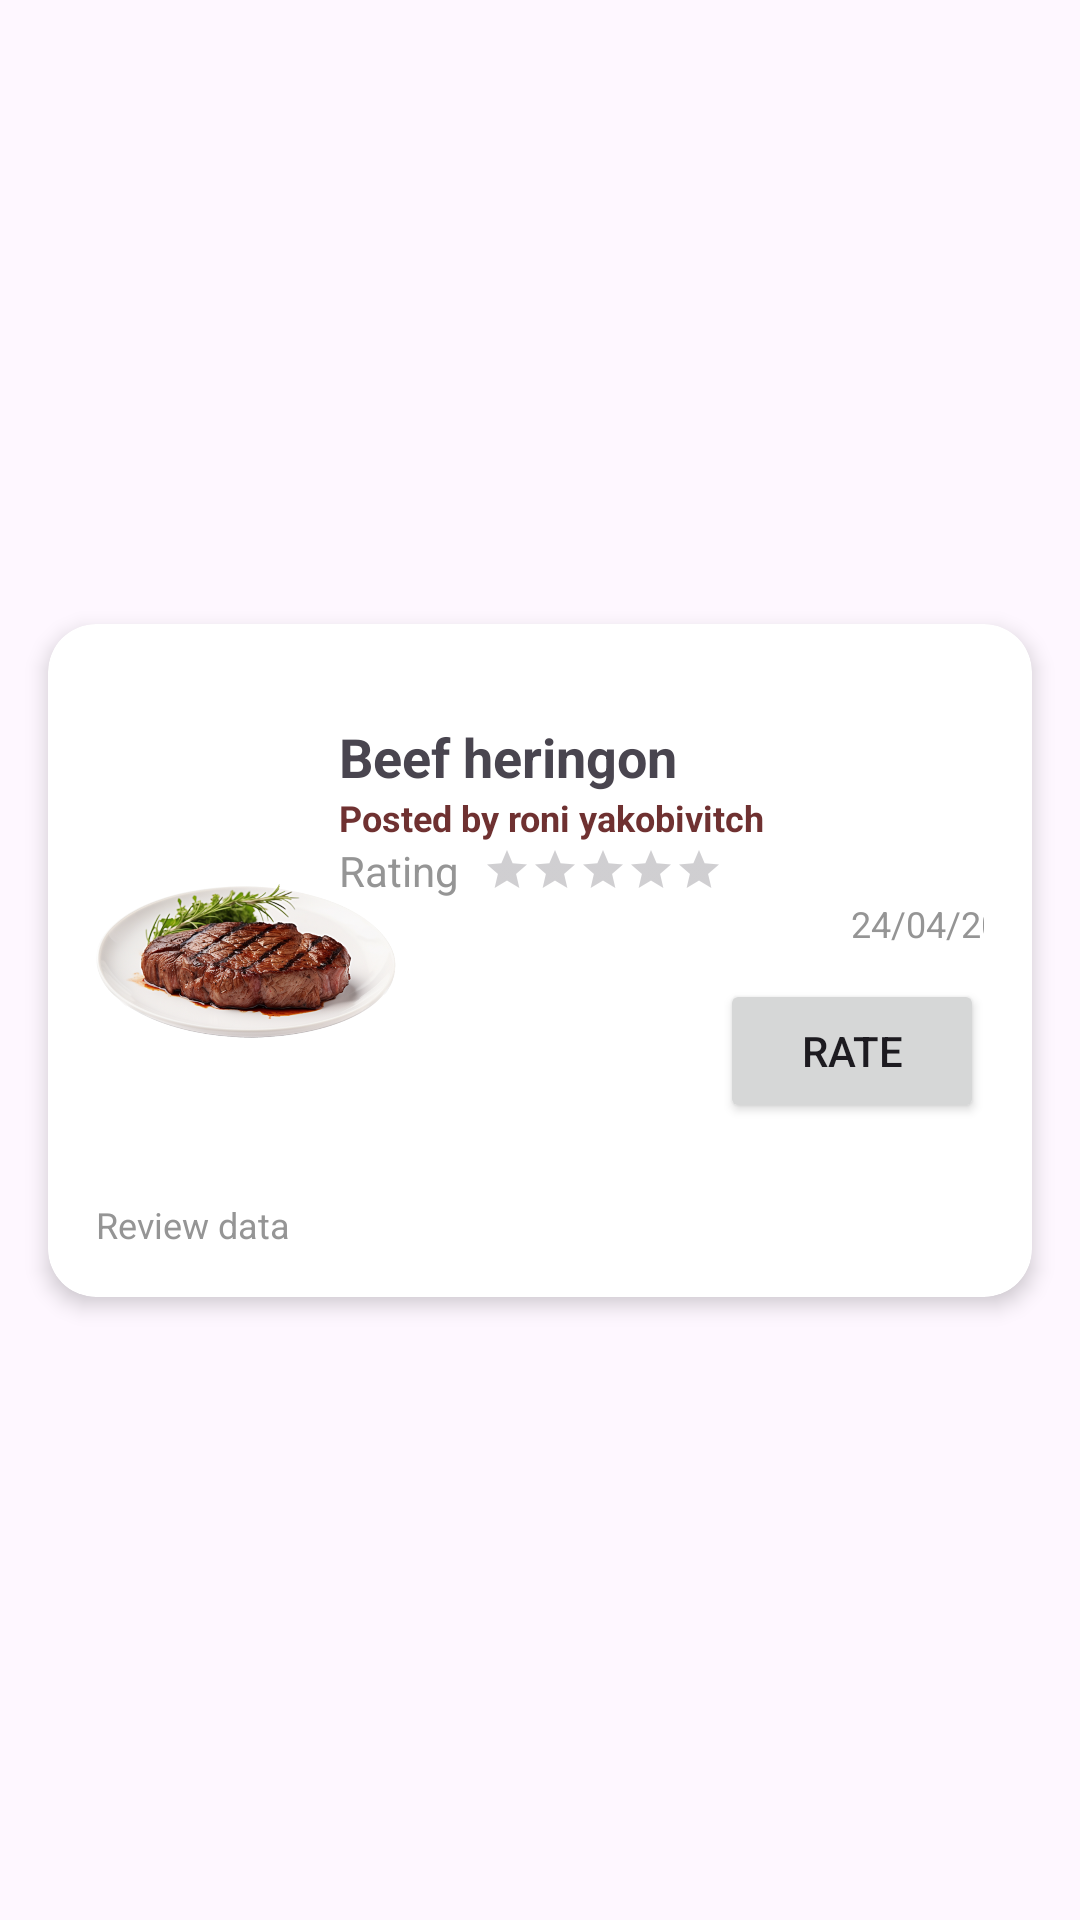

Named icons in this screenshot (1080*1920) and their bounding boxes, [x1,y1,x2,y2]:
meal: [98,811,396,1038]
